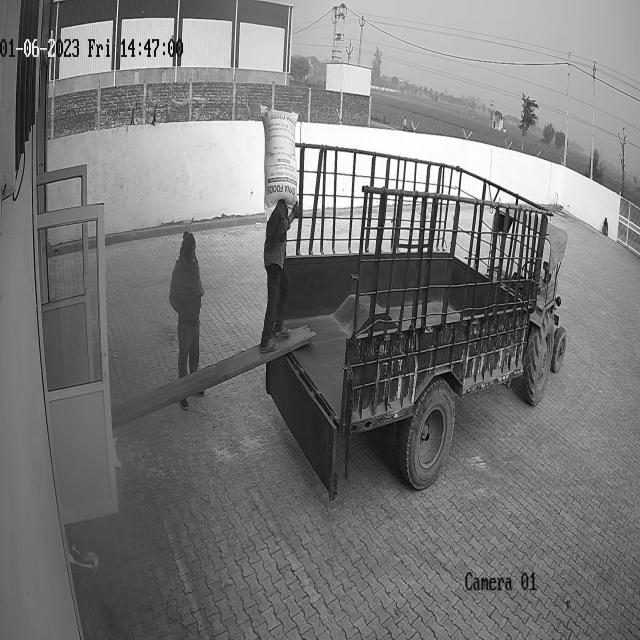sack: (259, 103, 300, 218)
